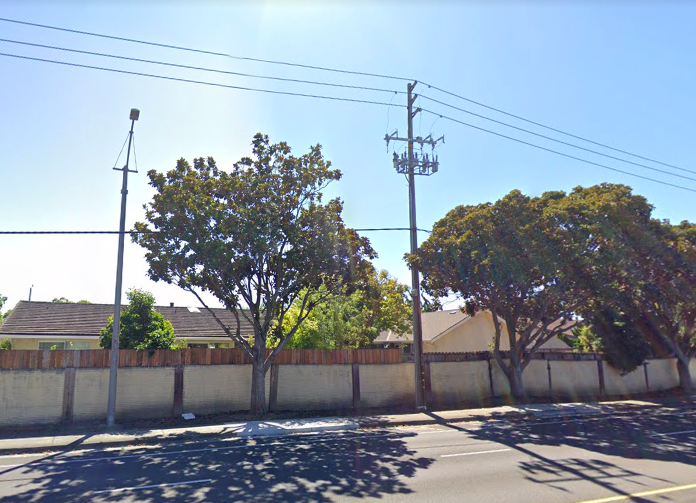tree: (130, 131, 380, 416), (401, 181, 672, 403)
utility_pole: (377, 76, 454, 185)
